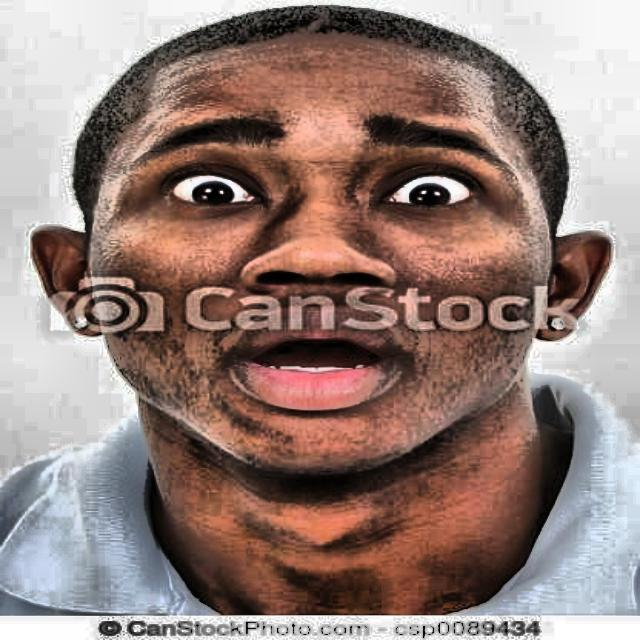surprised: (16, 14, 640, 490)
